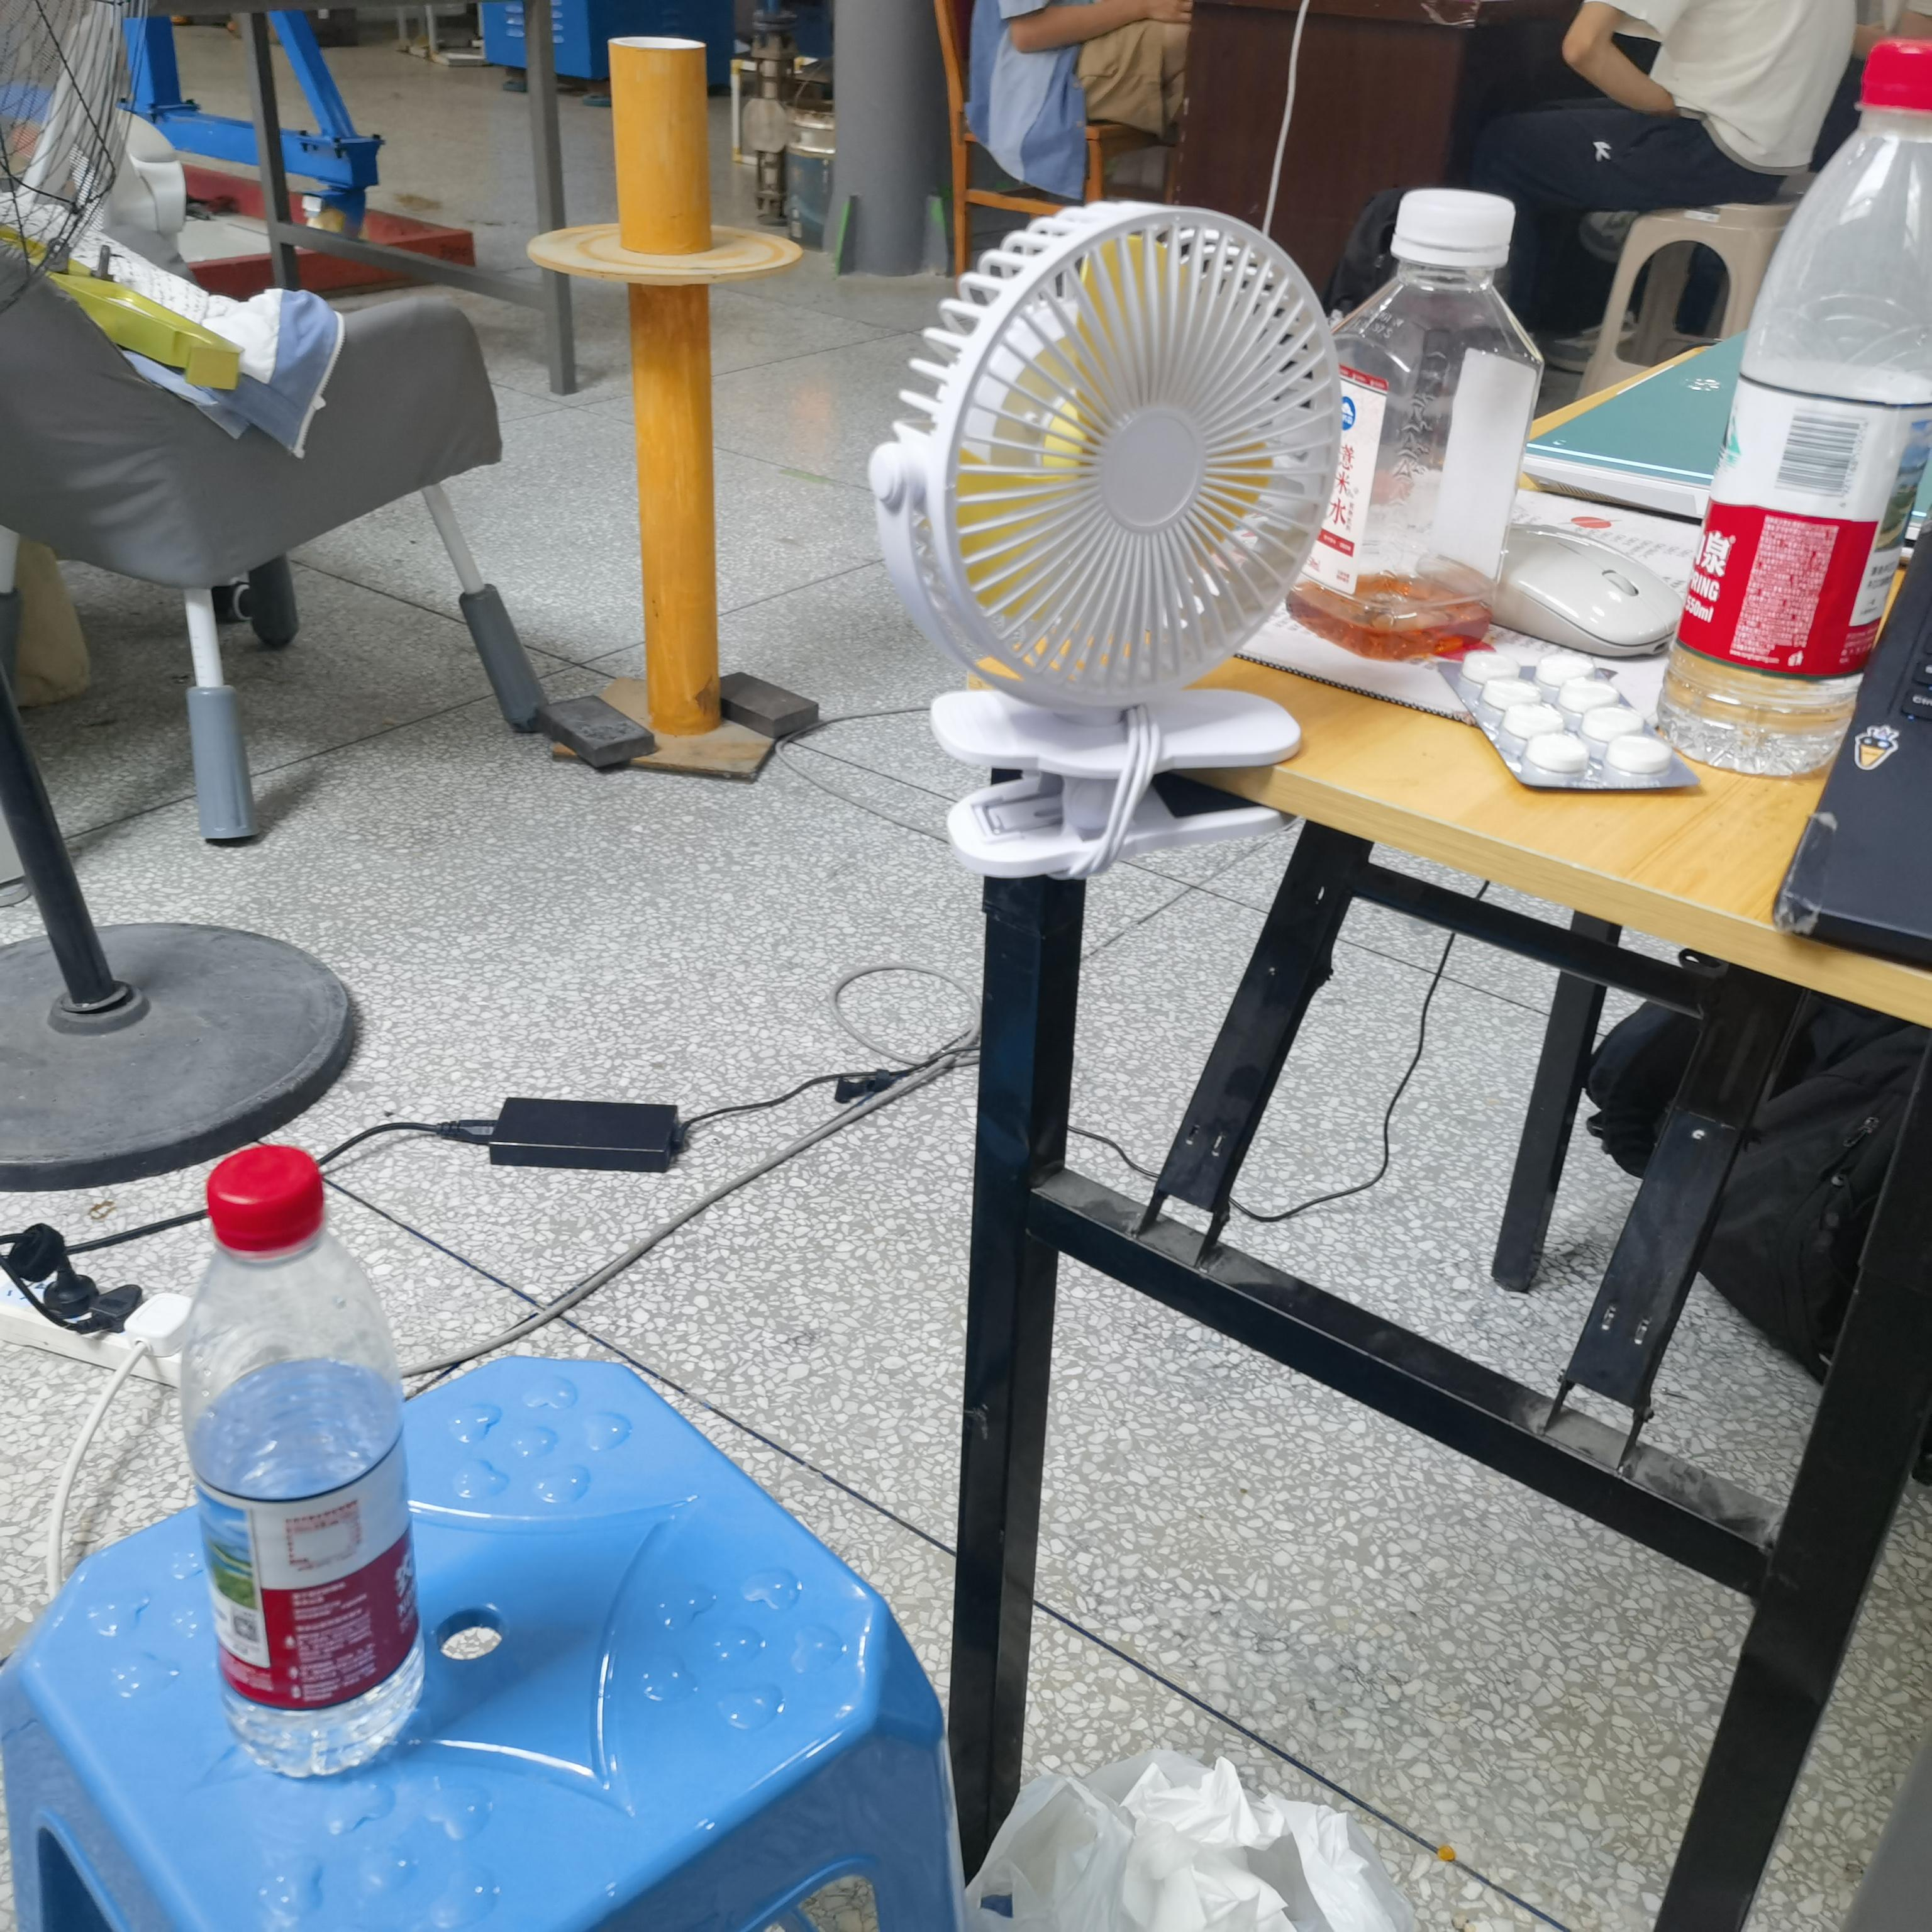bottle: (182, 1145, 421, 1776)
fan: (869, 202, 1339, 879)
